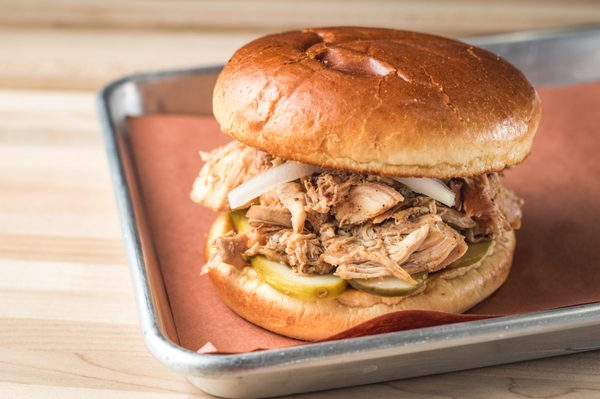soup: (190, 25, 539, 344)
sushi: (99, 38, 592, 388)
